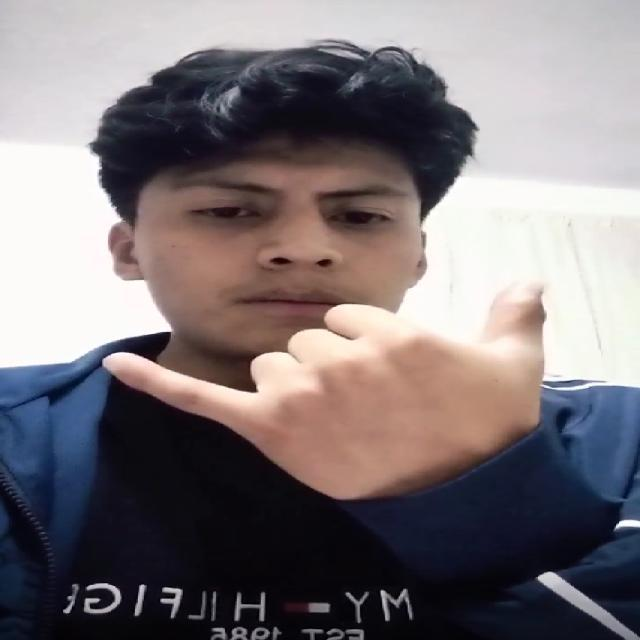Y: (90, 294, 590, 490)
